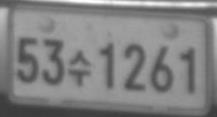1: (95, 41, 118, 90), (178, 45, 201, 93)
2: (122, 42, 147, 91)
3: (43, 38, 66, 85)
5: (17, 36, 40, 85)
6: (150, 44, 175, 93)
수: (67, 49, 92, 89)
